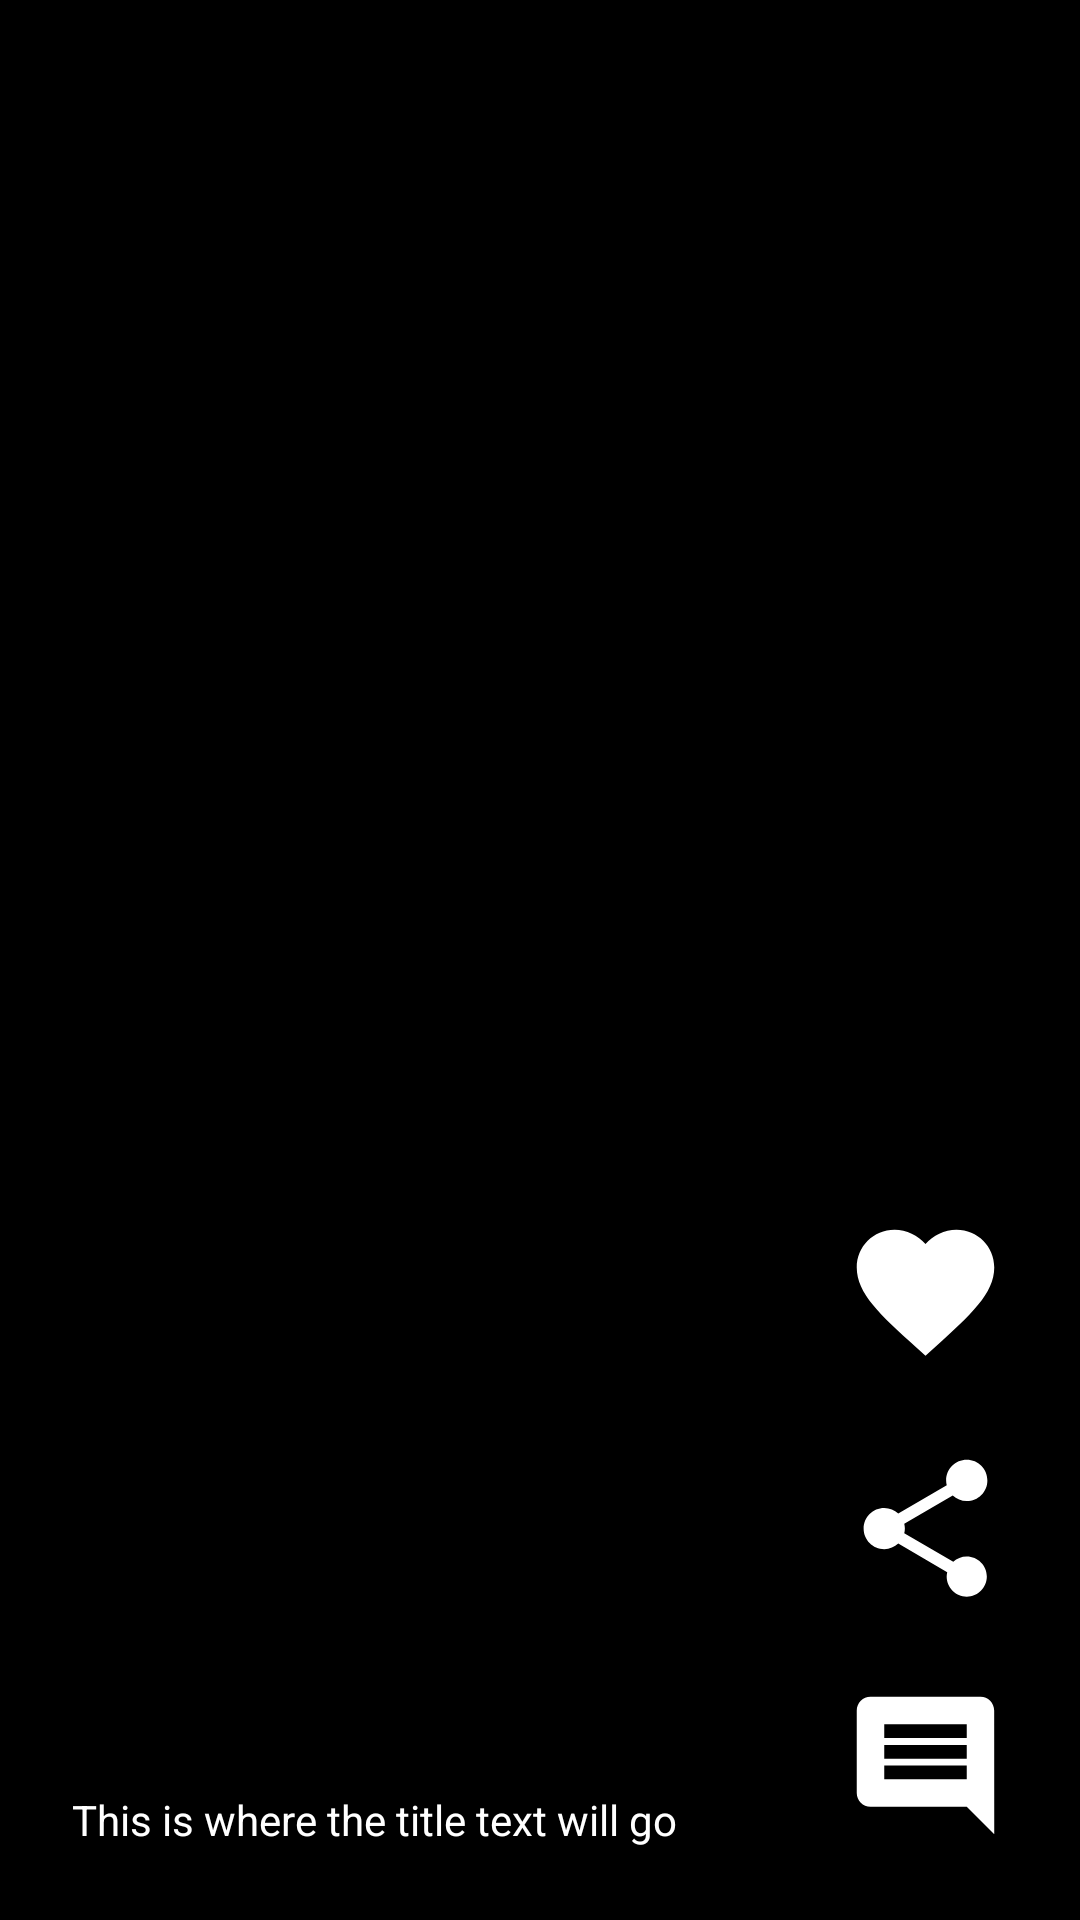

Named icons in this screenshot (1080x1920) and their bounding boxes, (x1, y1, x2, y2):
comment: (856, 1696, 995, 1834)
favorite: (856, 1229, 995, 1356)
share: (863, 1459, 988, 1597)
